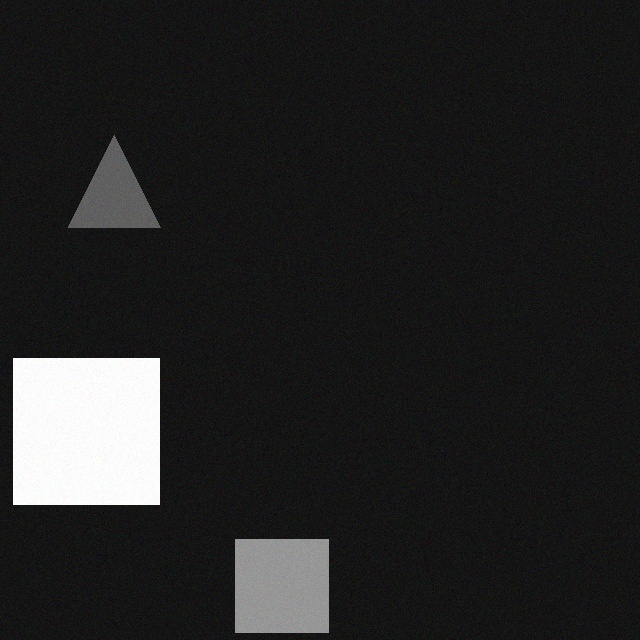square: (11, 354, 157, 500), (233, 535, 326, 628)
triangle: (66, 131, 158, 223)
